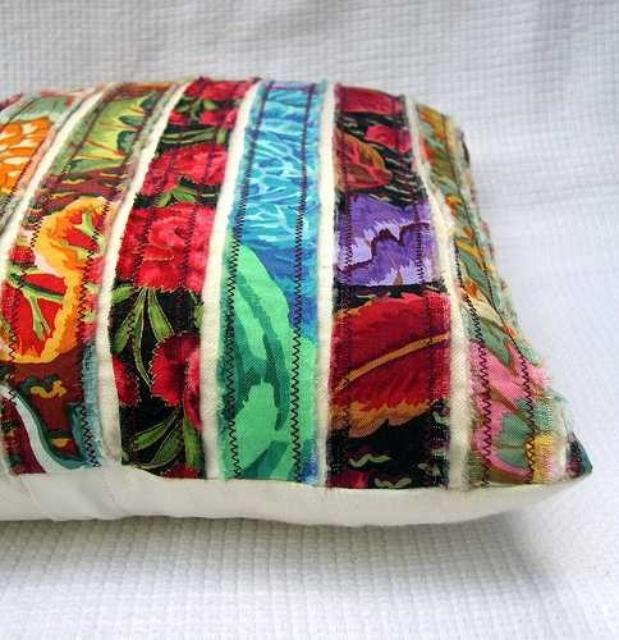pillow: (0, 74, 592, 526)
